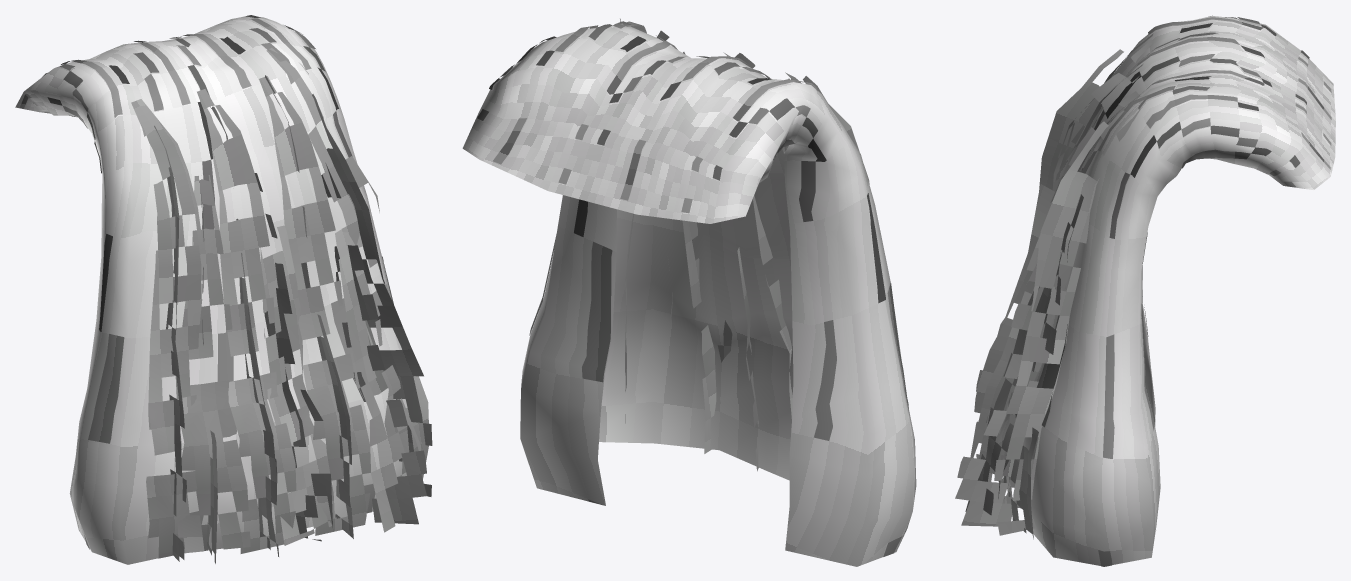
The model's file is vanilla_effects_fxwaterfallbodytall-54577cf4.glb.
3 views of the same model, side by side, from view 1: azimuth 30°, elevation 25°; view 2: azimuth 150°, elevation 25°; view 3: azimuth 270°, elevation 25° (orthographic). The views are drawn at different scales.
Visible parts, largest first — view 1: es|L2_whiteCrossStream03, es|FXWaterfallBodyTallInner01, es|FXWaterfallBodyTallFoam; view 2: es|FXWaterfallBodyTallInner01, es|FXWaterfallBodyTallFoam, es|L2_whiteCrossStream03; view 3: es|FXWaterfallBodyTallInner01, es|L2_whiteCrossStream03, es|FXWaterfallBodyTallFoam.
Boxes of the visible parts, left/top/right/bottom form: es|L2_whiteCrossStream03: left=131, top=48, right=432, bottom=563; es|FXWaterfallBodyTallInner01: left=15, top=16, right=414, bottom=564; es|FXWaterfallBodyTallFoam: left=20, top=15, right=393, bottom=550; es|FXWaterfallBodyTallInner01: left=462, top=25, right=916, bottom=566; es|FXWaterfallBodyTallFoam: left=477, top=21, right=909, bottom=556; es|L2_whiteCrossStream03: left=620, top=18, right=869, bottom=471; es|FXWaterfallBodyTallInner01: left=1023, top=16, right=1335, bottom=565; es|L2_whiteCrossStream03: left=955, top=33, right=1164, bottom=539; es|FXWaterfallBodyTallFoam: left=1036, top=15, right=1331, bottom=566.
Bounding box in the file's own units: 13.17 × 16.01 × 12.99.
3 materials, 3 textured.
